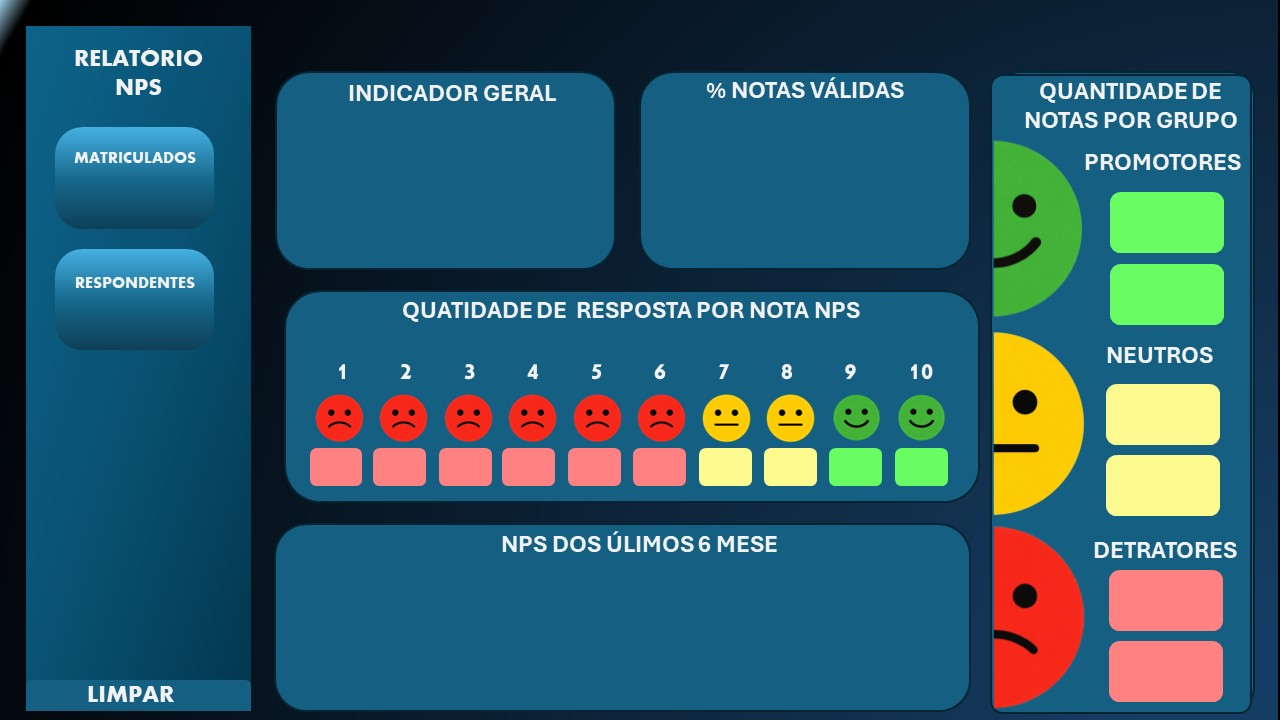

The dashboard page shown, as its layout file describes it:
{"tool":"powerbi","page":{"name":"NPS","canvas":[1280,720],"ordinal":1},"visuals":[{"type":"card","fields":{"Values":["Medidas.Matriculas"]},"box":[82.5,146.9,100.8,67.7],"z":0},{"type":"card","fields":{"Values":["Medidas.Respondentes"]},"box":[84,277.9,100.8,67.7],"z":1000},{"type":"card","fields":{"Values":["Medidas.Nota 1"]},"box":[298.1,449,66.2,34.6],"z":2000},{"type":"card","fields":{"Values":["Medidas.Nota 2"]},"box":[364.2,449,66.2,34.6],"z":3000},{"type":"card","fields":{"Values":["Medidas.Nota 3"]},"box":[430.2,449,66.2,34.6],"z":4000},{"type":"card","fields":{"Values":["Medidas.Nota 4"]},"box":[496.3,449,66.2,34.6],"z":5000},{"type":"card","fields":{"Values":["Medidas.Nota 5"]},"box":[562.4,449,66.2,34.6],"z":6000},{"type":"card","fields":{"Values":["Medidas.Nota 6"]},"box":[628.5,449,66.2,34.6],"z":7000},{"type":"card","fields":{"Values":["Medidas.Nota 7"]},"box":[694.6,449,66.2,34.6],"z":8000},{"type":"card","fields":{"Values":["Medidas.Nota 8"]},"box":[760.6,449,66.2,34.6],"z":9000},{"type":"card","fields":{"Values":["Medidas.Nota 9"]},"box":[826.7,449,66.2,34.6],"z":10000},{"type":"card","fields":{"Values":["Medidas.Nota 10"]},"box":[892.8,449,66.2,34.6],"z":11000},{"type":"card","fields":{"Values":["Medidas.Detratores"]},"box":[1105.9,567.4,119.5,56.2],"z":12000},{"type":"card","fields":{"Values":["Medidas.Perc Detratores"]},"box":[1105.9,632.2,119.5,64.8],"z":13000},{"type":"card","fields":{"Values":["Medidas.Neutros"]},"box":[1105.9,381.6,119.5,61.9],"z":14000},{"type":"card","fields":{"Values":["Medidas.Perc Neutro"]},"box":[1105.9,449.3,119.5,67.7],"z":15000},{"type":"card","fields":{"Values":["Medidas.Promotores"]},"box":[1105.9,193,119.5,60.5],"z":16000},{"type":"card","fields":{"Values":["Medidas.Perc Promotores"]},"box":[1105.9,253.4,119.5,76.3],"z":17000},{"type":"gauge","fields":{"Y":["Medidas.NPS"]},"box":[275,99.4,338.4,154.1],"z":18000},{"type":"clusteredColumnChart","fields":{"Category":["DimCalendario.MesAno"],"Y":["Medidas.NPS"]},"box":[275,547.2,695.5,161.3],"z":19000},{"type":"pieChart","fields":{"Y":["Medidas.Notas validas","Medidas.Notas Invalidas"]},"box":[639.4,89.3,331.2,174.2],"z":20000},{"type":"slicer","fields":{"Values":["DimAlunos.Graduação"]},"box":[43.2,360,177.1,73.4],"z":21000},{"type":"slicer","fields":{"Values":["DimAlunos.Gênero"]},"box":[43.2,433.4,102.2,73.4],"z":22000},{"type":"slicer","fields":{"Values":["DimAlunos.Idade"]},"box":[43.2,517,100.8,73.4],"z":23000},{"type":"actionButton","box":[56.2,612,47.5,40.3],"z":24000},{"type":"actionButton","box":[31.7,676.8,218.9,31.7],"z":25000},{"type":"ScrollingTextVisual1448795304508","fields":{"Measure Absolute":["Medidas.NPS"],"Category":["DimCalendario.MesAno"],"Measure Deviation":["Medidas.Perc Notas Válidas"]},"box":[275,0,966.2,61.9],"z":26000}]}

Visuals, with their boxes in screenshot pixels (x1, y1, x2, y2), scaled from the page's 1280x720 canvas onto the 1280x720 screenshot:
card - Medidas.Matriculas: 82:147:183:215
card - Medidas.Respondentes: 84:278:185:346
card - Medidas.Nota 1: 298:449:364:484
card - Medidas.Nota 2: 364:449:430:484
card - Medidas.Nota 3: 430:449:496:484
card - Medidas.Nota 4: 496:449:562:484
card - Medidas.Nota 5: 562:449:629:484
card - Medidas.Nota 6: 628:449:695:484
card - Medidas.Nota 7: 695:449:761:484
card - Medidas.Nota 8: 761:449:827:484
card - Medidas.Nota 9: 827:449:893:484
card - Medidas.Nota 10: 893:449:959:484
card - Medidas.Detratores: 1106:567:1225:624
card - Medidas.Perc Detratores: 1106:632:1225:697
card - Medidas.Neutros: 1106:382:1225:444
card - Medidas.Perc Neutro: 1106:449:1225:517
card - Medidas.Promotores: 1106:193:1225:254
card - Medidas.Perc Promotores: 1106:253:1225:330
gauge - Medidas.NPS: 275:99:613:254
clusteredColumnChart - DimCalendario.MesAno x Medidas.NPS: 275:547:970:708
pieChart - Medidas.Notas validas x Medidas.Notas Invalidas: 639:89:971:264
slicer - DimAlunos.Graduação: 43:360:220:433
slicer - DimAlunos.Gênero: 43:433:145:507
slicer - DimAlunos.Idade: 43:517:144:590
actionButton: 56:612:104:652
actionButton: 32:677:251:708
ScrollingTextVisual1448795304508 - Medidas.NPS x DimCalendario.MesAno: 275:0:1241:62
